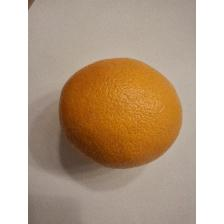Orange: (56, 56, 186, 172)
